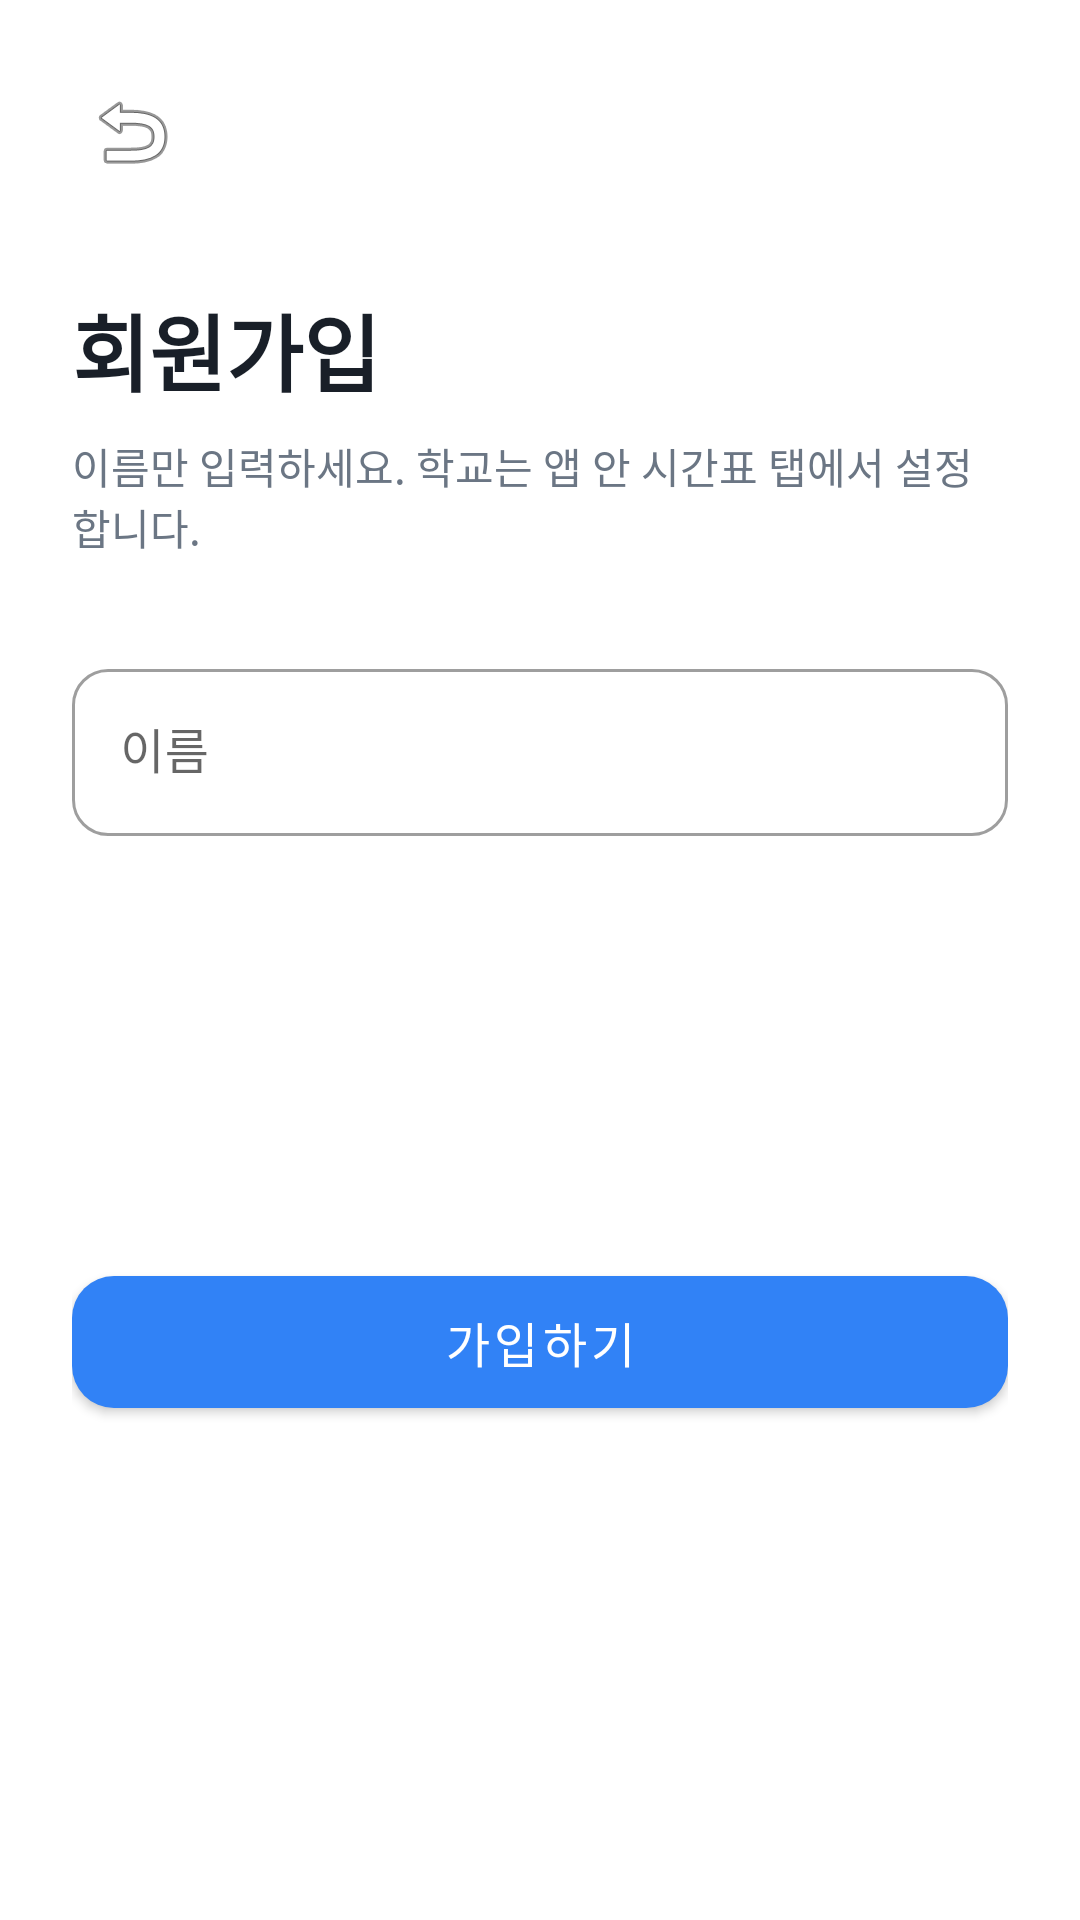

Named icons in this screenshot (1080×1920) and their centers, point (x, y):
뒤로가기: point (133, 132)
